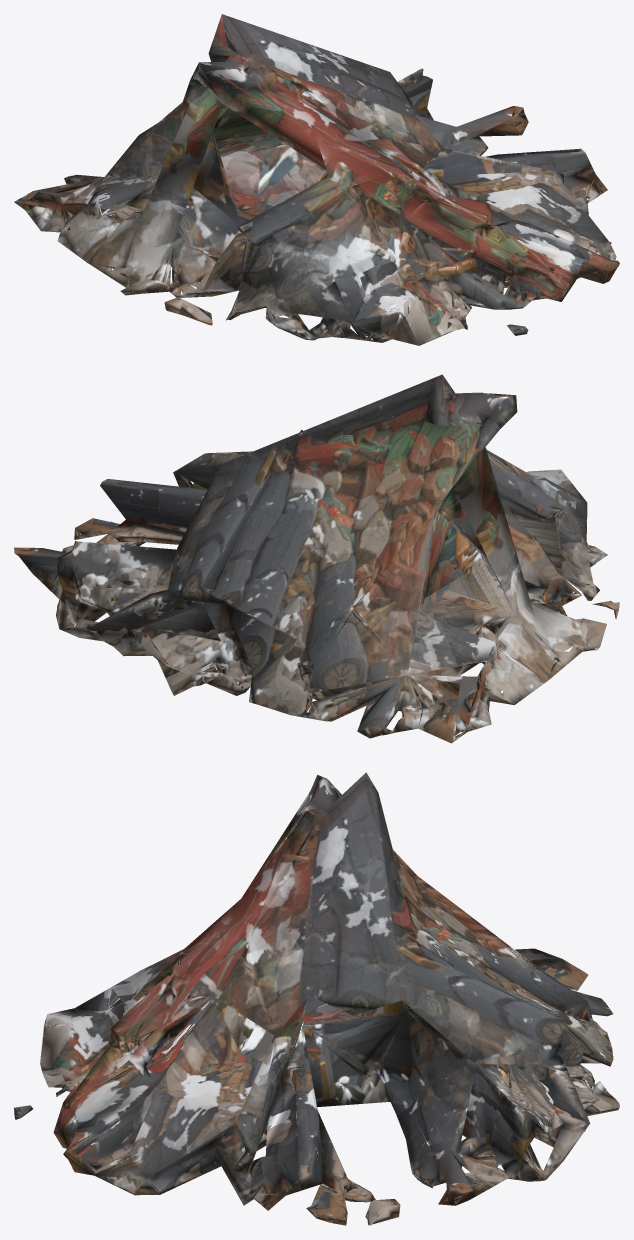
Rendered from PR_RoofDebris.fbx.
3 renders of one model, top to bottom at view 1: azimuth 30°, elevation 25°; view 2: azimuth 150°, elevation 25°; view 3: azimuth 270°, elevation 25°, orthographic. The views are drawn at different scales.
Visible parts, largest first — view 1: texture_mapping; view 2: texture_mapping; view 3: texture_mapping.
Part boxes in pixels (box(x1,y1,x2,y2)): texture_mapping: box(14, 14, 619, 345); texture_mapping: box(14, 374, 619, 743); texture_mapping: box(14, 772, 619, 1225).
Size of the model in its own units: 0.9699 by 0.9794 by 0.4794.
1 material, 1 textured.
